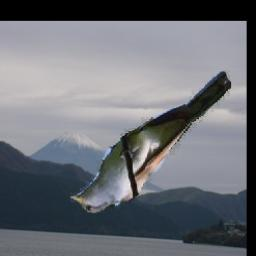Cuckoo: (72, 70, 232, 214)
